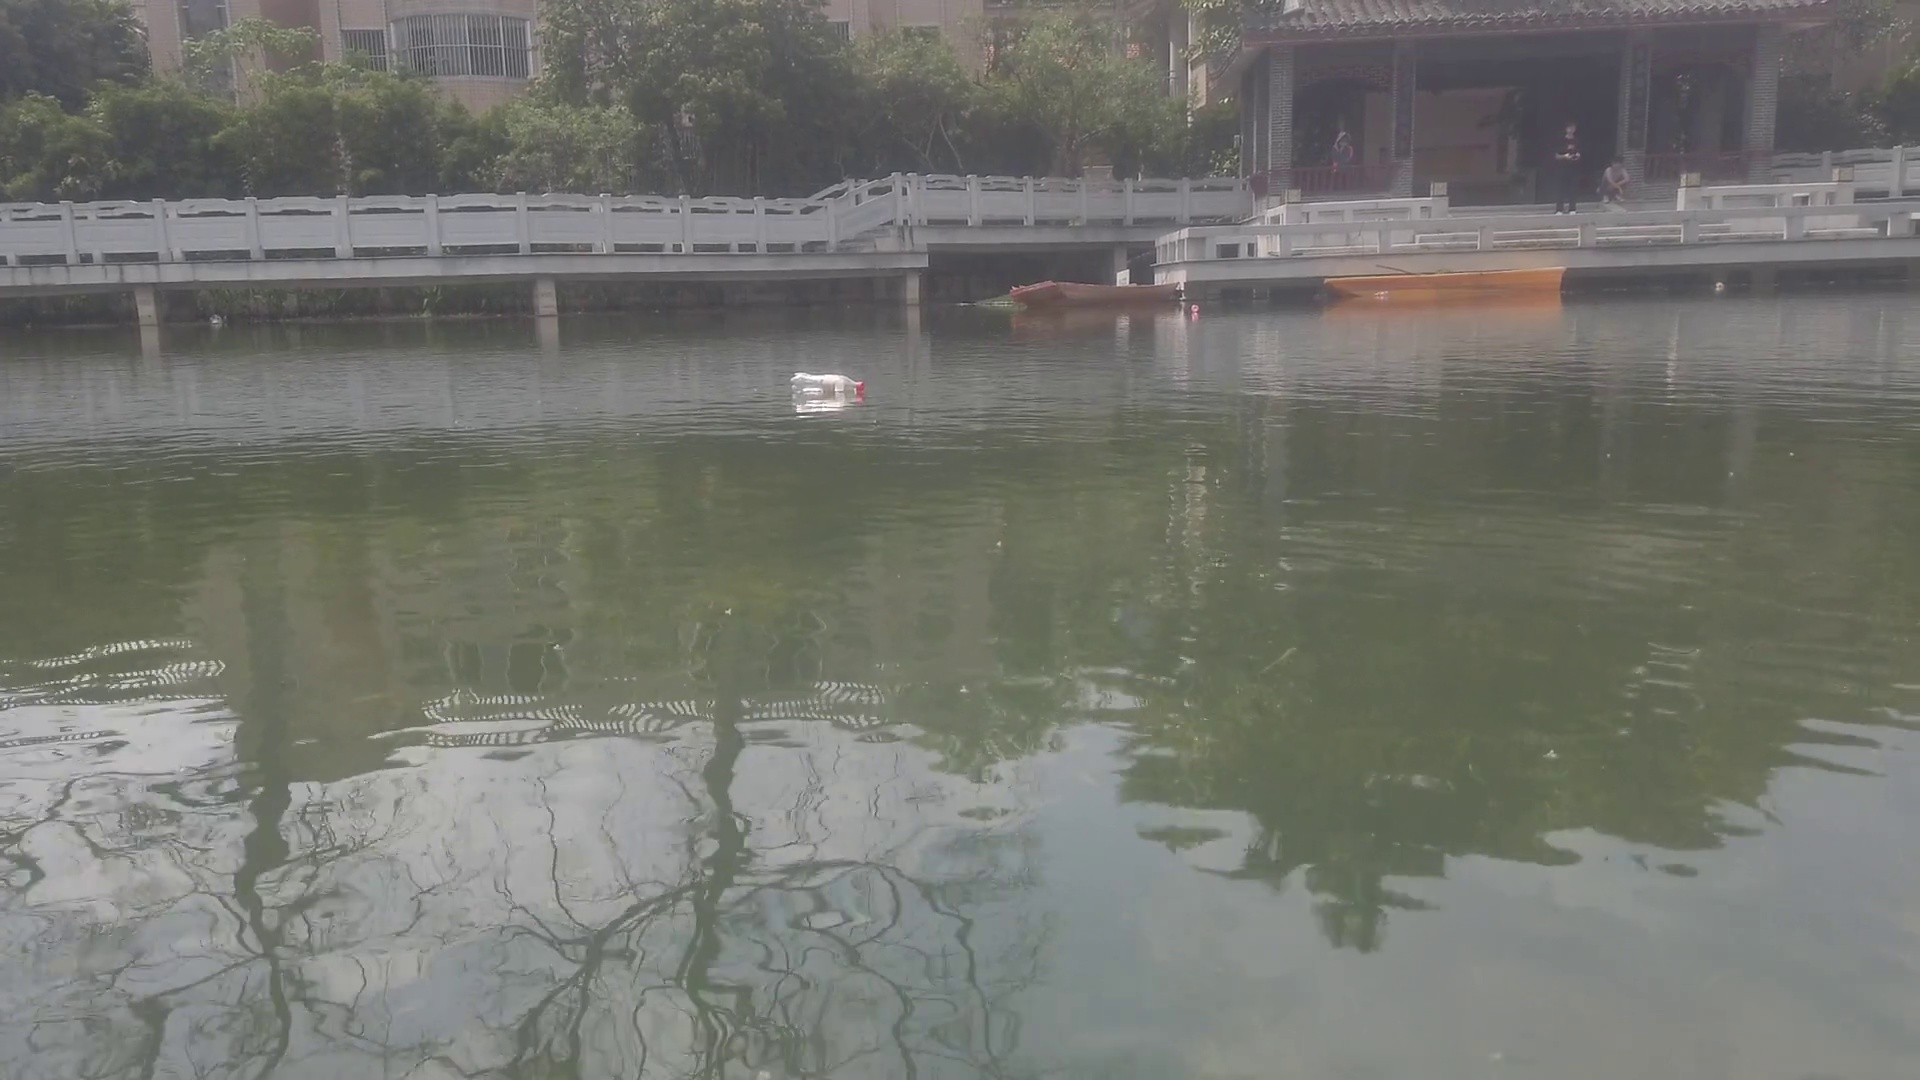bottle: (790, 369, 865, 398), (1192, 301, 1203, 316), (1370, 289, 1387, 298), (1710, 282, 1724, 293)
